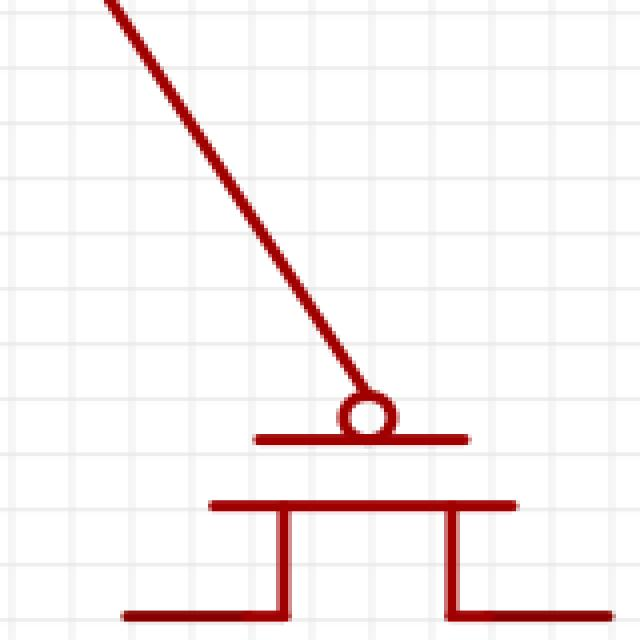pmos: (60, 48, 640, 640)
